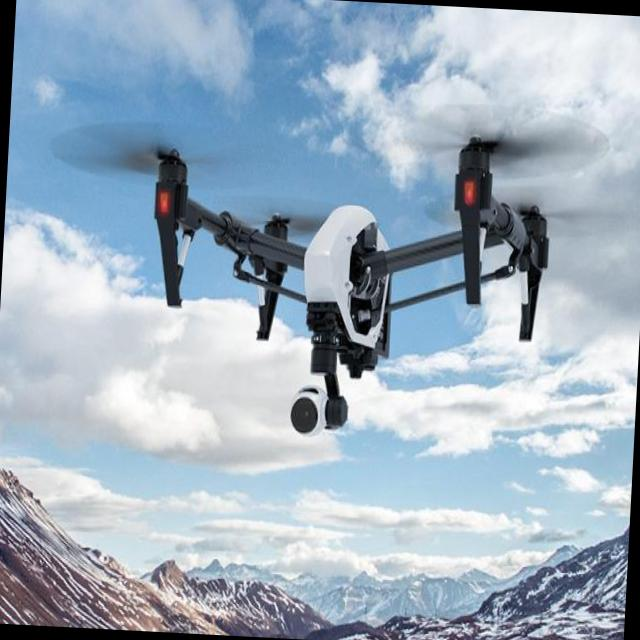drone: (35, 78, 620, 454)
